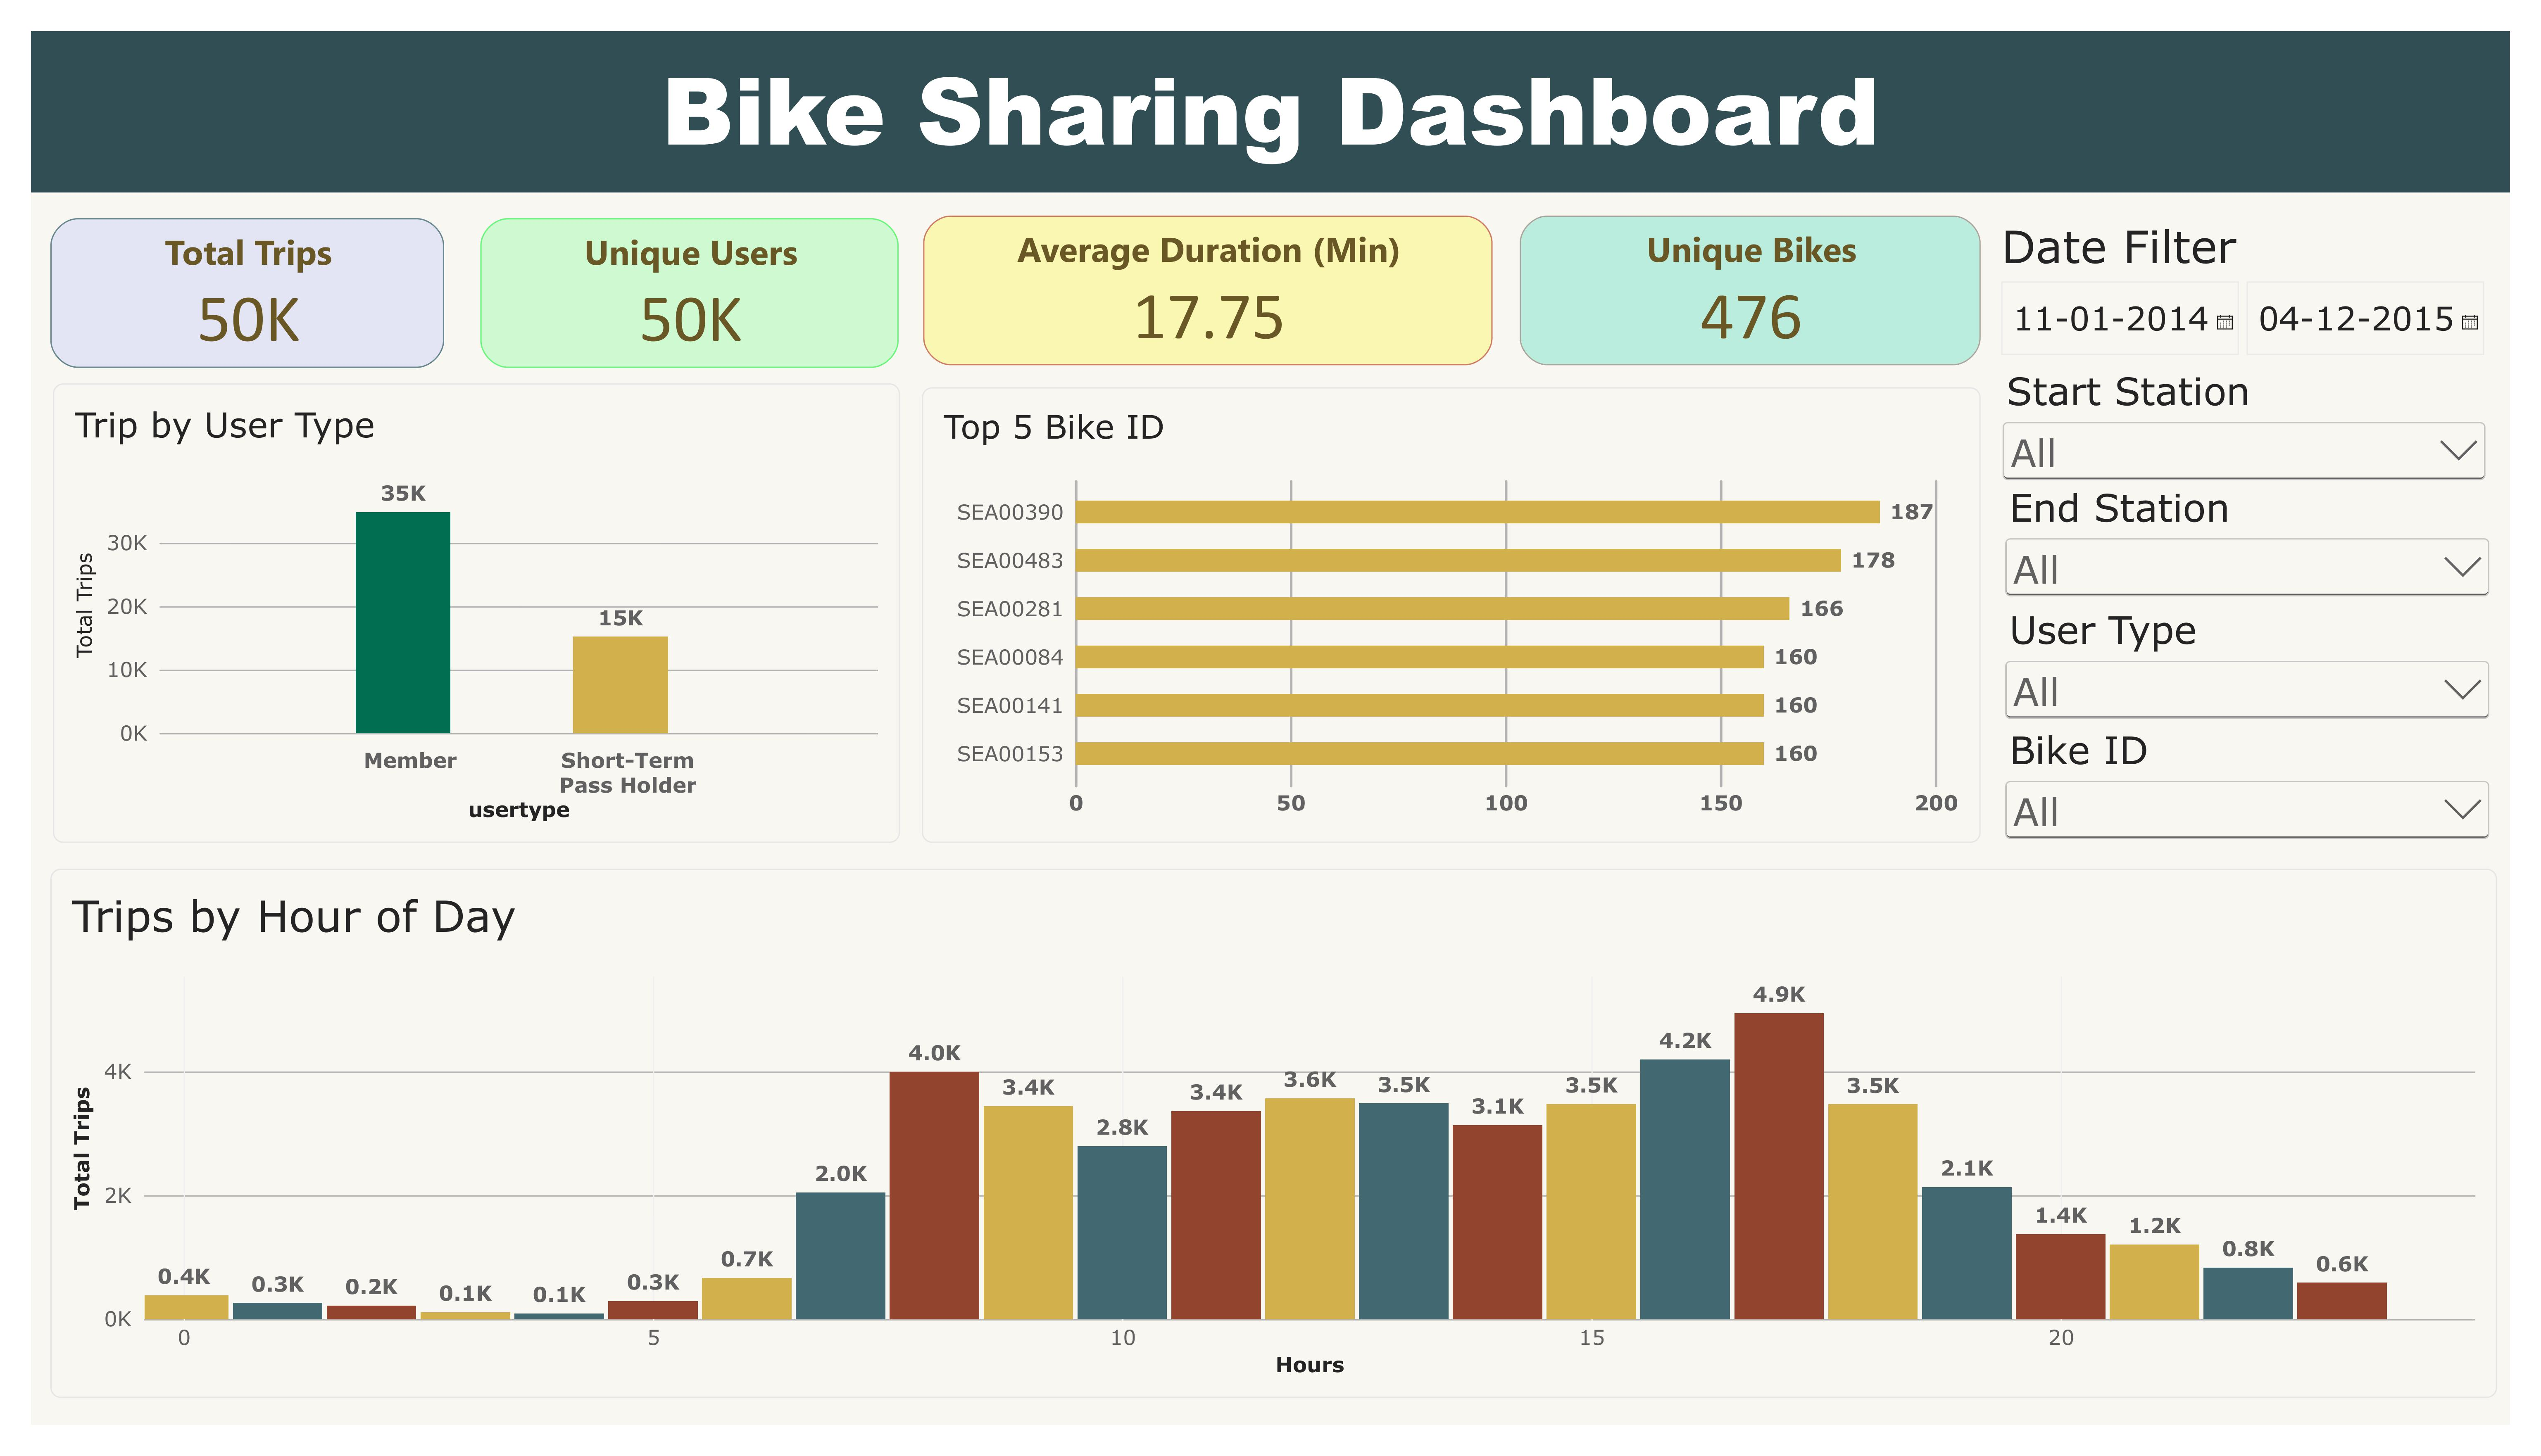

The dashboard page shown, as its layout file describes it:
{"tool":"powerbi","page":{"name":"Page 3","canvas":[1920,1080],"ordinal":2},"visuals":[{"type":"textbox","box":[0,0,1920.2,125.3],"z":1},{"type":"cardVisual","fields":{"Data":["trip_dataset2.Total Trips"]},"box":[15.1,144.7,304.6,116.6],"z":2},{"type":"cardVisual","fields":{"Data":["trip_dataset2.Unique Users"]},"box":[347.8,144.7,324,116.6],"z":3},{"type":"cardVisual","fields":{"Data":["trip_dataset2.Average Duration (Min)"]},"box":[691.2,142.6,440.6,116.6],"z":4},{"type":"cardVisual","fields":{"Data":["trip_dataset2.Unique Bikes"]},"box":[1153.4,142.6,356.4,116.6],"z":5},{"type":"slicer","fields":{"Values":["trip_dataset2.Trip_Date"]},"box":[1518.5,144.7,384.5,229],"z":8},{"type":"slicer","fields":{"Values":["trip_dataset2.from_station_name"]},"box":[1522,261,384.5,90.7],"z":9},{"type":"slicer","fields":{"Values":["trip_dataset2.usertype"]},"box":[1524.4,446.3,384.5,92.9],"z":10},{"type":"slicer","fields":{"Values":["trip_dataset2.to_station_name"]},"box":[1524.4,351.2,384.5,90.7],"z":11},{"type":"slicer","fields":{"Values":["trip_dataset2.bikeid"]},"box":[1524.4,539,384.5,90.7],"z":12},{"type":"clusteredColumnChart","title":"Trips by Hour of Day","fields":{"Category":["trip_dataset2.Trip_Hour"],"Y":["trip_dataset2.Total Trips"]},"box":[14.6,648.8,1895.1,409.8],"z":16},{"type":"clusteredColumnChart","title":"Trip by User Type","fields":{"Category":["trip_dataset2.usertype"],"Y":["trip_dataset2.Total Trips"]},"box":[17.1,273.2,656.1,356.1],"z":17},{"type":"clusteredBarChart","title":"Top 5 Bike ID","fields":{"Category":["trip_dataset2.bikeid"],"Y":["CountNonNull(trip_dataset2.bikeid)"]},"box":[690.2,275.6,819.5,353.7],"z":18}]}

Visuals, with their boxes on the page's 1920x1080 design canvas (x1, y1, x2, y2). These are canvas units, not pixel positions in the 2541x1456 screenshot, which may show the page scaled, cropped or inside an application window:
textbox: 0, 0, 1920, 125
cardVisual - trip_dataset2.Total Trips: 15, 145, 320, 261
cardVisual - trip_dataset2.Unique Users: 348, 145, 672, 261
cardVisual - trip_dataset2.Average Duration (Min): 691, 143, 1132, 259
cardVisual - trip_dataset2.Unique Bikes: 1153, 143, 1510, 259
slicer - trip_dataset2.Trip_Date: 1518, 145, 1903, 374
slicer - trip_dataset2.from_station_name: 1522, 261, 1906, 352
slicer - trip_dataset2.usertype: 1524, 446, 1909, 539
slicer - trip_dataset2.to_station_name: 1524, 351, 1909, 442
slicer - trip_dataset2.bikeid: 1524, 539, 1909, 630
"Trips by Hour of Day" clusteredColumnChart: 15, 649, 1910, 1059
"Trip by User Type" clusteredColumnChart: 17, 273, 673, 629
"Top 5 Bike ID" clusteredBarChart: 690, 276, 1510, 629
